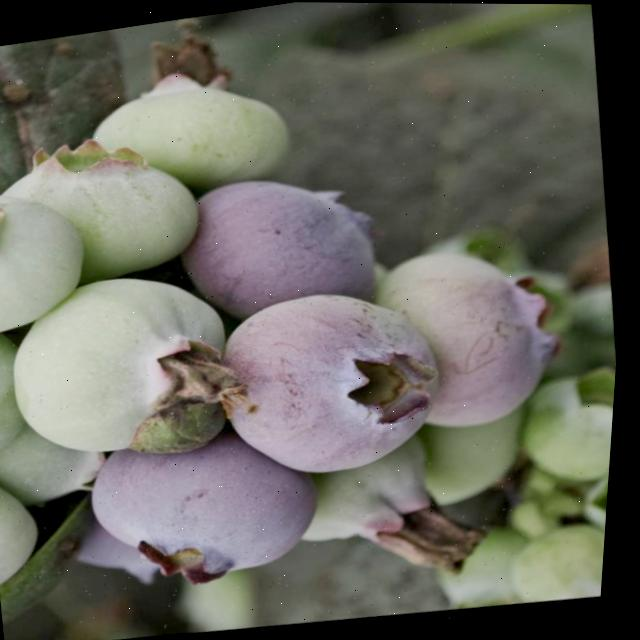Semi-RipeBlueBerry: (209, 274, 474, 500), (82, 422, 347, 612), (172, 160, 400, 331)
UnripeBlueBerry: (0, 262, 257, 481)
